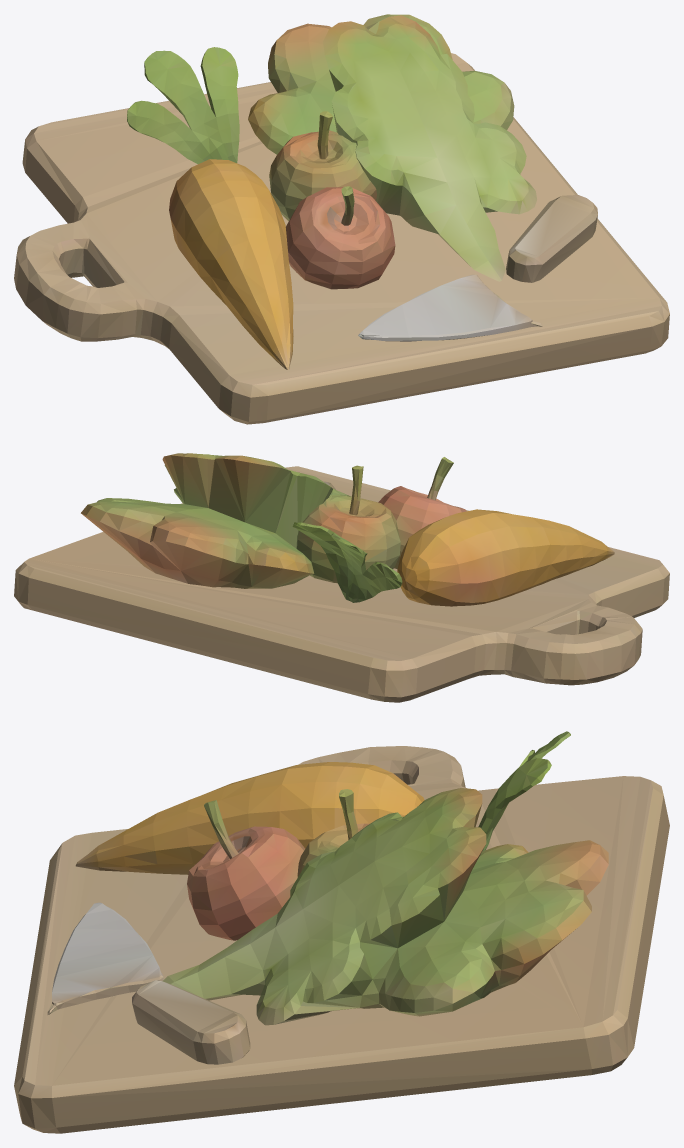
File: cutboard.glb
3 views of the same model, one above another, from view 1: azimuth 30°, elevation 25°; view 2: azimuth 150°, elevation 25°; view 3: azimuth 270°, elevation 25° (orthographic). The views are drawn at different scales.
Visible parts, largest first — view 1: geometry_0; view 2: geometry_0; view 3: geometry_0.
Boxes of the visible parts, x1,y1,x2,y2 form: geometry_0: [14, 14, 669, 424]; geometry_0: [14, 453, 669, 702]; geometry_0: [14, 731, 669, 1133].
Bounding box in the file's own units: 0.1694 × 0.0669 × 0.1519.
